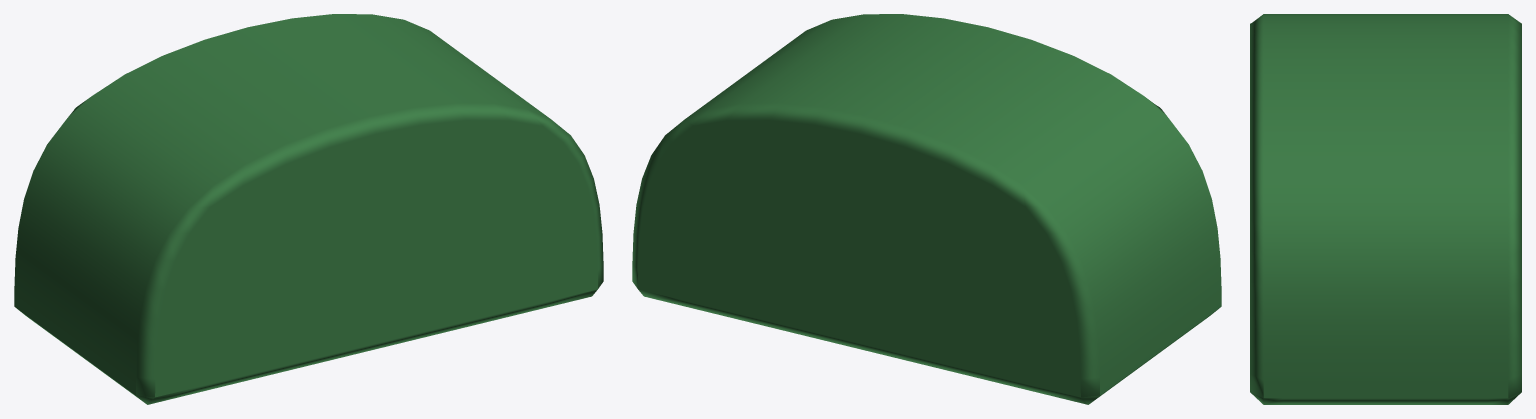
File: 2x1x1_Round_Roof.fbx
The picture shows the model from 3 angles, left to right: view 1: azimuth 30°, elevation 25°; view 2: azimuth 150°, elevation 25°; view 3: azimuth 270°, elevation 25°; orthographic projection.
Parts seen in each view (by area): view 1: 2x1x1_Round_Roof; view 2: 2x1x1_Round_Roof; view 3: 2x1x1_Round_Roof.
Boxes of the visible parts, left/top/right/bottom form: 2x1x1_Round_Roof: left=14, top=14, right=603, bottom=404; 2x1x1_Round_Roof: left=632, top=14, right=1221, bottom=404; 2x1x1_Round_Roof: left=1250, top=14, right=1521, bottom=404.
Size of the model in its own units: 0.1999 by 0.0958 by 0.1.
Materials: 1 (1 with a texture image).
